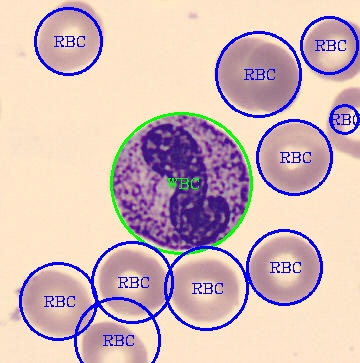RBC: (255, 118, 333, 195), (246, 232, 325, 306), (18, 265, 94, 338), (36, 0, 106, 75), (96, 246, 168, 318), (168, 255, 241, 324), (245, 38, 302, 114), (212, 34, 266, 111), (301, 17, 359, 82), (80, 320, 149, 361), (325, 84, 358, 162)
WBC: (109, 110, 251, 249)
